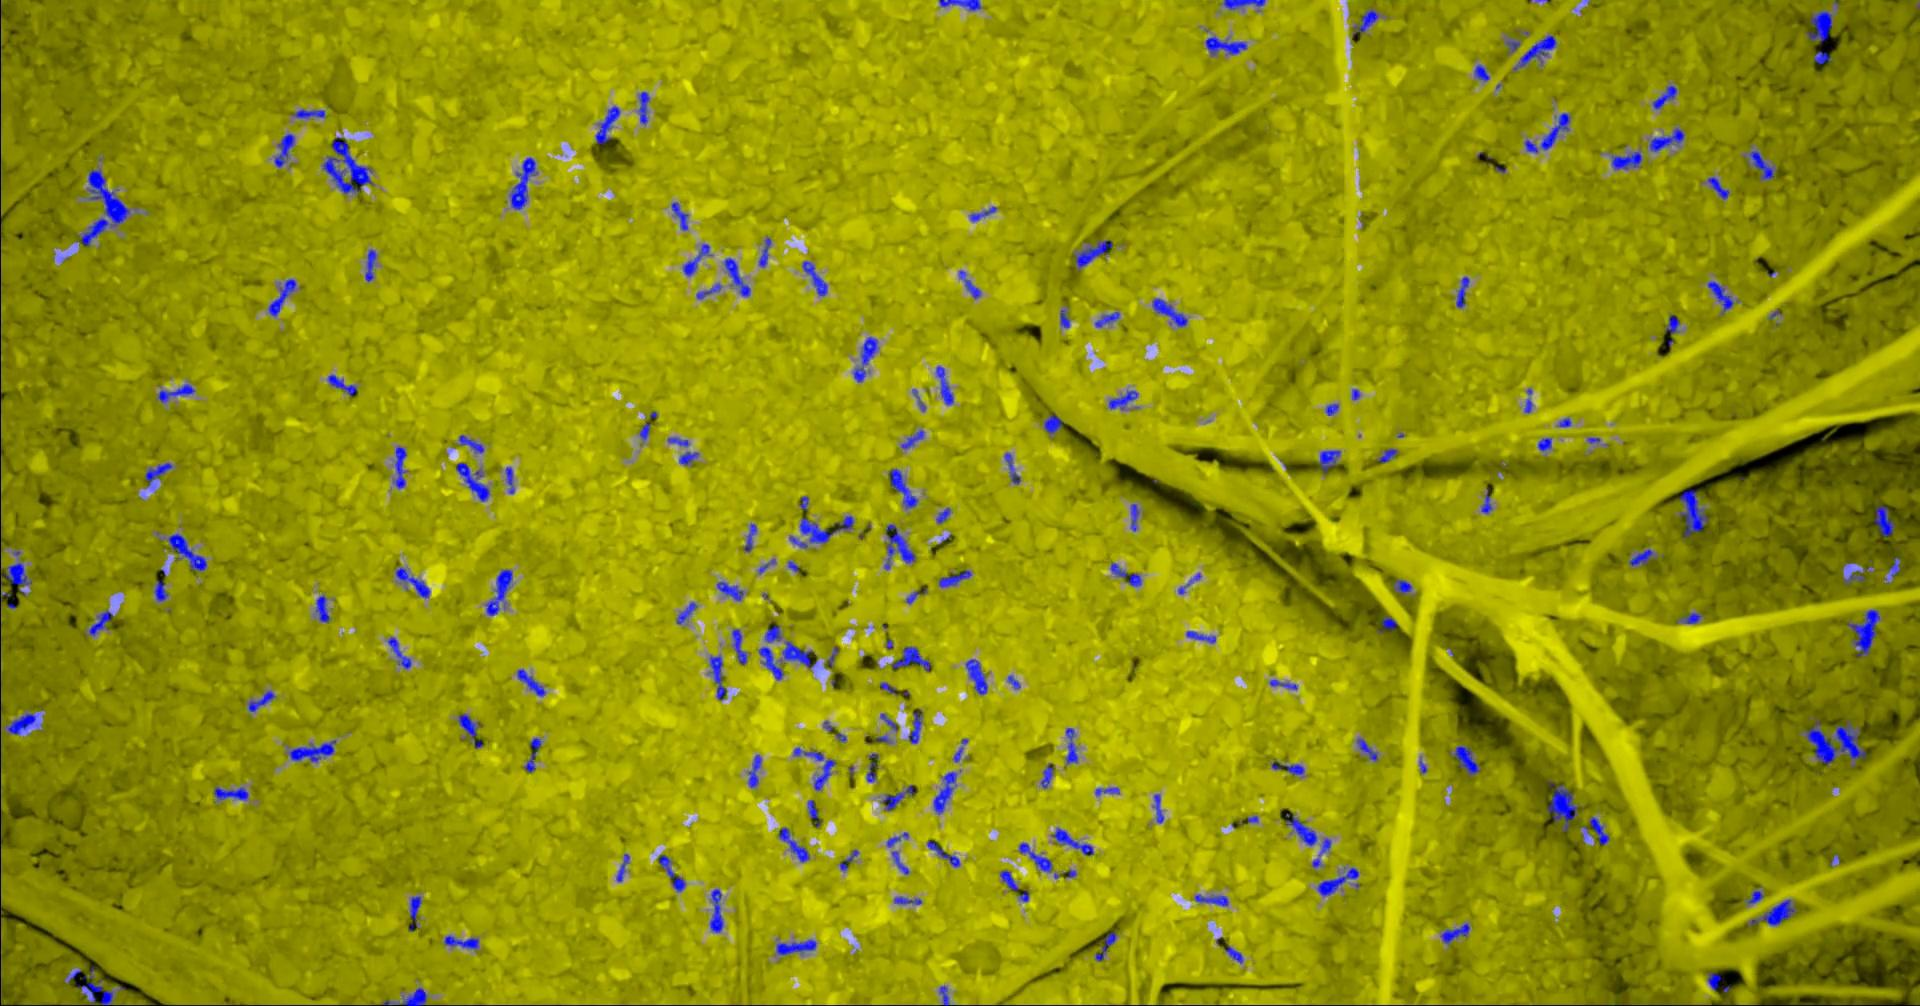ant: (792, 747, 836, 790), (1524, 112, 1570, 152), (1547, 780, 1577, 831), (1848, 608, 1879, 657), (799, 514, 853, 542), (1512, 36, 1556, 70), (509, 158, 537, 210), (1679, 488, 1707, 539), (884, 525, 916, 569), (168, 533, 206, 570), (76, 965, 112, 1005), (455, 462, 489, 500), (1747, 899, 1796, 925), (485, 569, 512, 615), (888, 467, 917, 508), (1317, 868, 1357, 895), (1051, 827, 1093, 854), (853, 337, 877, 382), (1073, 239, 1112, 267), (723, 257, 750, 296), (778, 827, 809, 862), (288, 739, 335, 762), (395, 567, 429, 597), (268, 278, 295, 316), (1285, 812, 1316, 845), (1018, 842, 1051, 873), (1152, 298, 1187, 326), (933, 771, 956, 814), (658, 854, 684, 890), (682, 243, 710, 276), (891, 647, 930, 671), (0, 561, 30, 591), (881, 784, 914, 810), (926, 840, 959, 866), (596, 105, 618, 144), (801, 260, 827, 295), (782, 641, 817, 667), (1707, 281, 1733, 312), (1806, 10, 1831, 43), (758, 647, 783, 680), (1650, 127, 1684, 151), (458, 713, 483, 747), (1749, 150, 1777, 179), (516, 668, 545, 696), (382, 987, 427, 1005), (1205, 36, 1246, 55), (709, 655, 726, 699), (1110, 561, 1142, 586), (387, 636, 411, 668), (1453, 746, 1479, 774), (965, 659, 987, 694), (935, 365, 952, 404), (156, 384, 194, 401), (274, 133, 295, 166), (776, 939, 817, 955), (328, 373, 357, 396), (1873, 506, 1895, 536), (1352, 9, 1377, 36), (957, 271, 980, 298), (143, 462, 171, 485), (6, 713, 36, 734), (1095, 931, 1116, 960), (709, 888, 723, 932), (88, 610, 112, 635), (392, 446, 406, 488), (1652, 85, 1676, 109), (248, 691, 276, 711), (1589, 815, 1609, 843), (1441, 922, 1469, 942), (1109, 390, 1138, 409), (1310, 838, 1330, 868), (938, 569, 971, 586), (524, 737, 540, 772), (1611, 151, 1641, 169), (716, 580, 743, 600), (670, 202, 688, 230), (731, 629, 745, 664), (908, 708, 922, 743), (1707, 177, 1728, 199), (408, 895, 422, 930), (1004, 452, 1020, 483), (747, 754, 761, 788), (1455, 276, 1469, 307), (676, 602, 697, 622), (1356, 738, 1377, 760), (1319, 450, 1338, 473), (1629, 547, 1652, 567), (213, 786, 248, 799), (443, 935, 477, 948), (458, 434, 483, 452), (938, 0, 980, 10), (1065, 727, 1077, 763), (1271, 761, 1304, 774), (902, 429, 923, 448), (839, 848, 858, 870), (999, 869, 1018, 890), (969, 206, 996, 221), (315, 594, 329, 622), (696, 283, 721, 298), (1043, 413, 1062, 433), (637, 91, 649, 124), (891, 851, 908, 874), (1223, 0, 1265, 9), (1095, 311, 1119, 326), (743, 523, 756, 551), (616, 854, 629, 882), (1185, 630, 1215, 641), (952, 738, 968, 761), (1194, 894, 1228, 904), (808, 799, 820, 826), (1377, 616, 1397, 633), (886, 832, 908, 847), (292, 108, 324, 118), (364, 249, 375, 281), (758, 238, 770, 265), (866, 753, 877, 781), (1224, 945, 1242, 963), (1153, 793, 1163, 823), (1040, 763, 1053, 788), (1843, 570, 1864, 584), (154, 579, 168, 601), (1665, 314, 1679, 334), (678, 451, 698, 465), (764, 625, 781, 641), (1707, 970, 1721, 989), (1887, 556, 1900, 577), (1676, 612, 1702, 622), (1474, 64, 1490, 80), (935, 507, 950, 523), (1813, 50, 1831, 64), (1378, 448, 1396, 462), (1393, 579, 1411, 593), (1269, 680, 1297, 688), (893, 895, 921, 904), (1481, 489, 1491, 513), (505, 467, 514, 493), (1523, 387, 1531, 412), (1130, 503, 1138, 531), (1746, 890, 1763, 903), (938, 984, 949, 1005), (667, 437, 688, 446), (1095, 788, 1119, 795), (1059, 309, 1069, 326), (639, 422, 649, 439), (1324, 403, 1338, 415), (1537, 437, 1550, 450), (1506, 39, 1519, 52)
